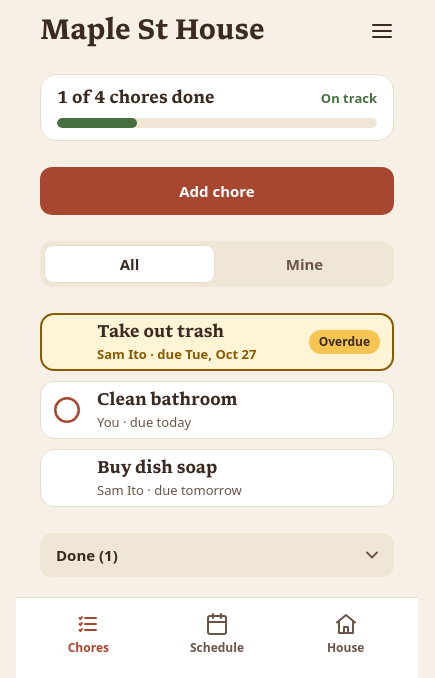
Test: Home chore list › marks a chore done: it moves to the Done section and is saved
Click the checkbox named "Mark Clean bathroom done" at (67, 410), box x1=45 y1=388 x2=89 y2=432
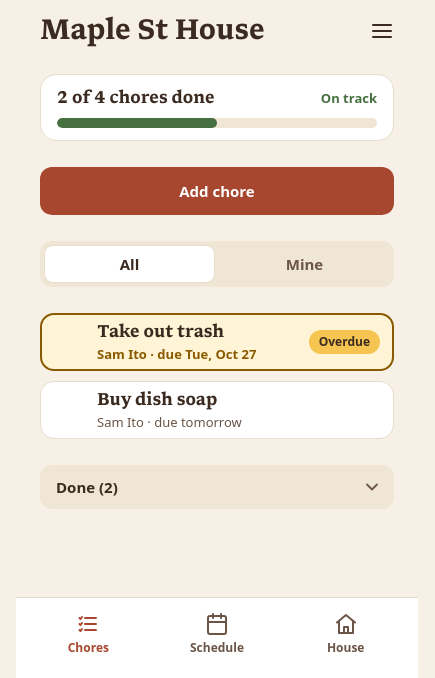
Now the button "Done (2)" is shown, box x1=40 y1=465 x2=394 y2=509
Now the progress indicator named "2 of 4 chores done" is shown, box x1=57 y1=118 x2=377 y2=128
